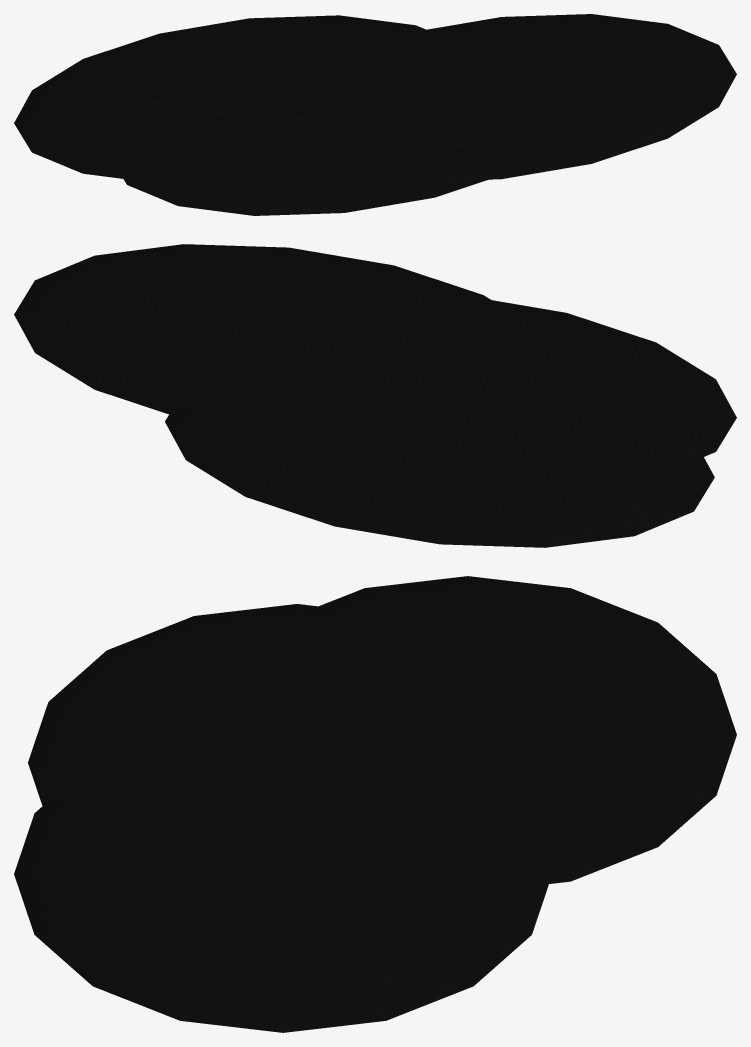
Rendered from PROP-26E3E95F30AF_lod0.glb.
The picture shows the model from 3 angles, top to bottom: view 1: azimuth 30°, elevation 25°; view 2: azimuth 150°, elevation 25°; view 3: azimuth 270°, elevation 25°; orthographic projection. The views are drawn at different scales.
Parts seen in each view (by area): view 1: surface_hazard.003; view 2: surface_hazard.003; view 3: surface_hazard.003.
Part boxes in pixels (left/top/right/bottom): surface_hazard.003: left=14, top=14, right=736, bottom=215; surface_hazard.003: left=14, top=244, right=736, bottom=547; surface_hazard.003: left=14, top=576, right=736, bottom=1032.
Size of the model in its own units: 1.71 by 0.036 by 1.14.
Materials: 1 (1 with a texture image).
